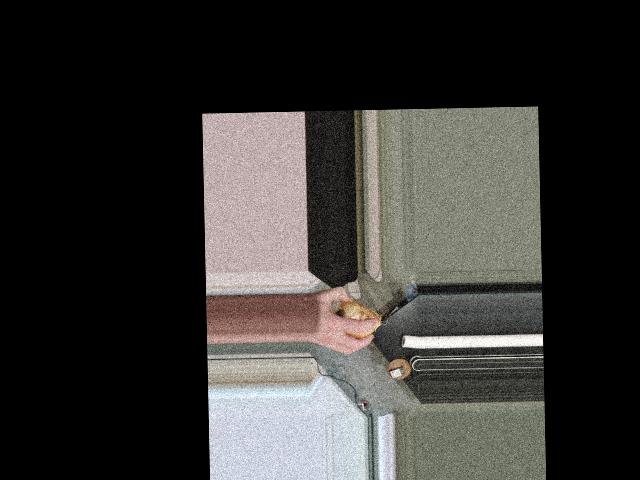onion: (337, 300, 380, 337)
